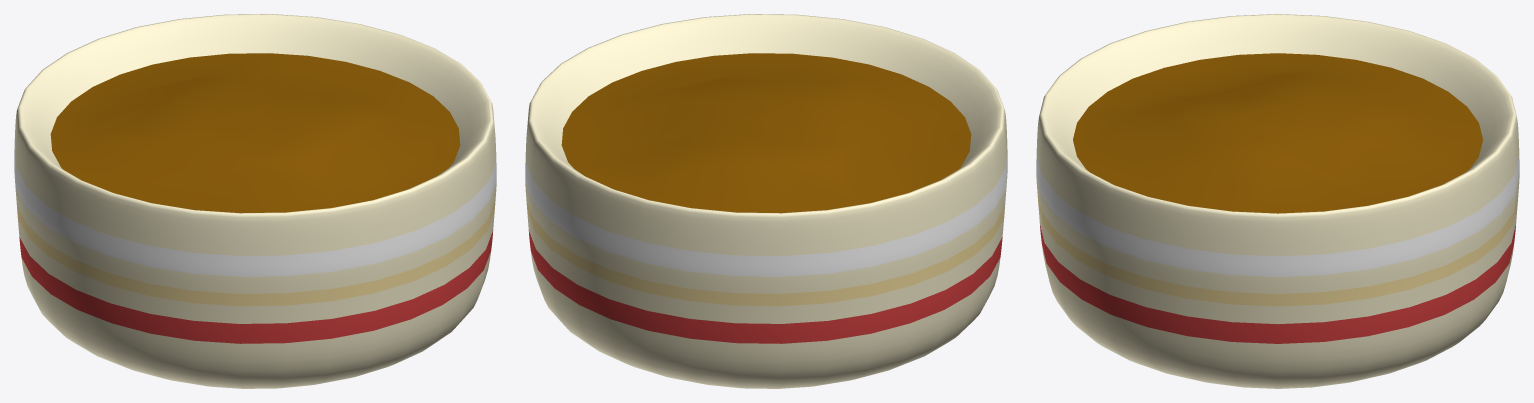
Rendered from meat_bowl_3.fbx.
3 views of the same model, side by side, from view 1: azimuth 30°, elevation 25°; view 2: azimuth 150°, elevation 25°; view 3: azimuth 270°, elevation 25° (orthographic).
Visible parts, largest first — view 1: lettuce_bowl_v2:nurbsToPoly37, pDisc1; view 2: lettuce_bowl_v2:nurbsToPoly37, pDisc1; view 3: lettuce_bowl_v2:nurbsToPoly37, pDisc1.
Boxes of the visible parts, x1,y1,x2,y2 form: lettuce_bowl_v2:nurbsToPoly37: [14, 14, 496, 388]; pDisc1: [50, 53, 460, 213]; lettuce_bowl_v2:nurbsToPoly37: [525, 14, 1007, 388]; pDisc1: [561, 53, 971, 213]; lettuce_bowl_v2:nurbsToPoly37: [1036, 14, 1519, 388]; pDisc1: [1073, 53, 1482, 213].
Bounding box in the file's own units: 8.64 × 4.72 × 8.64.
